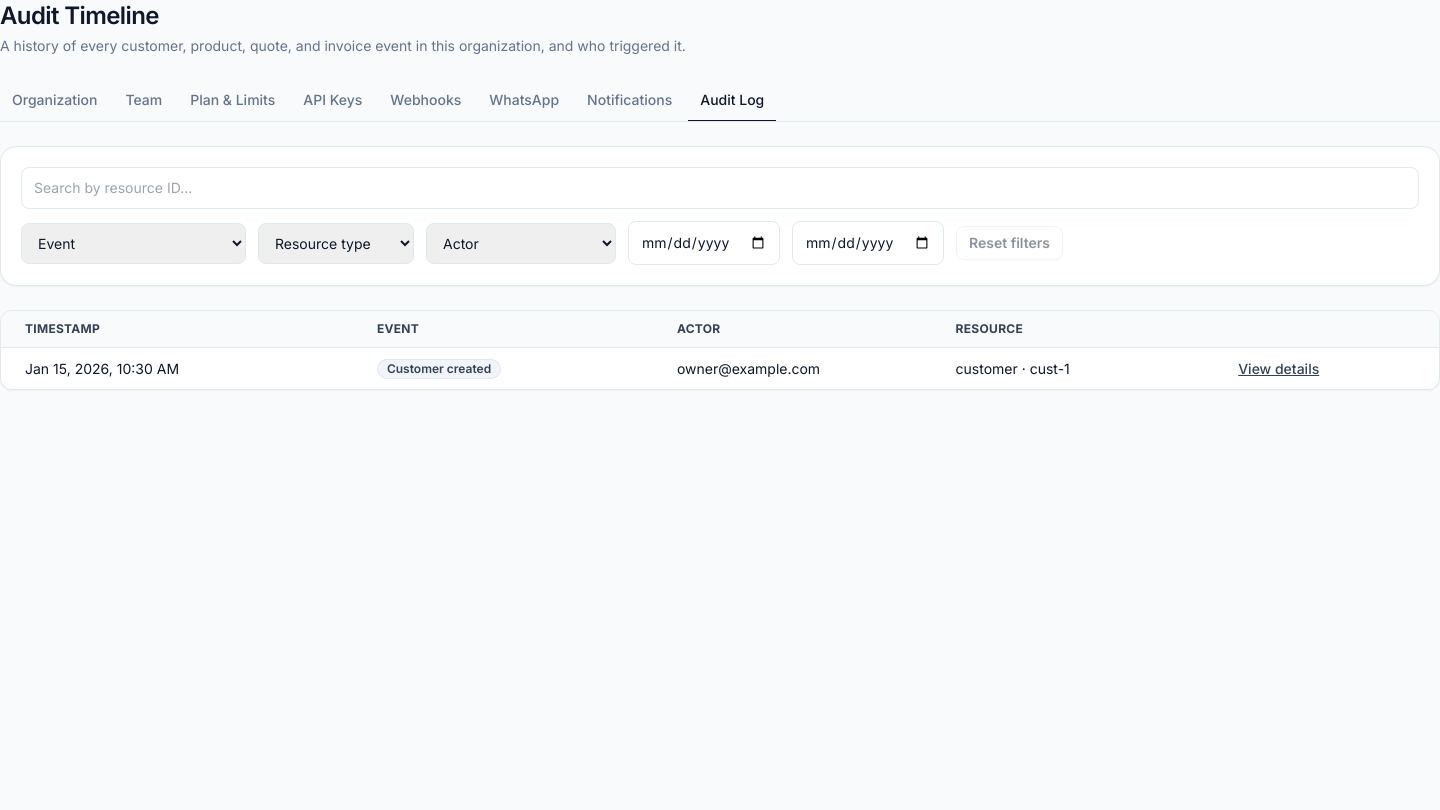
Test: SettingsAuditLogPage › shows 'no additional data' when metadata is null
Click the button "View details".
click(1279, 368)  # box [1238,358,1319,378]
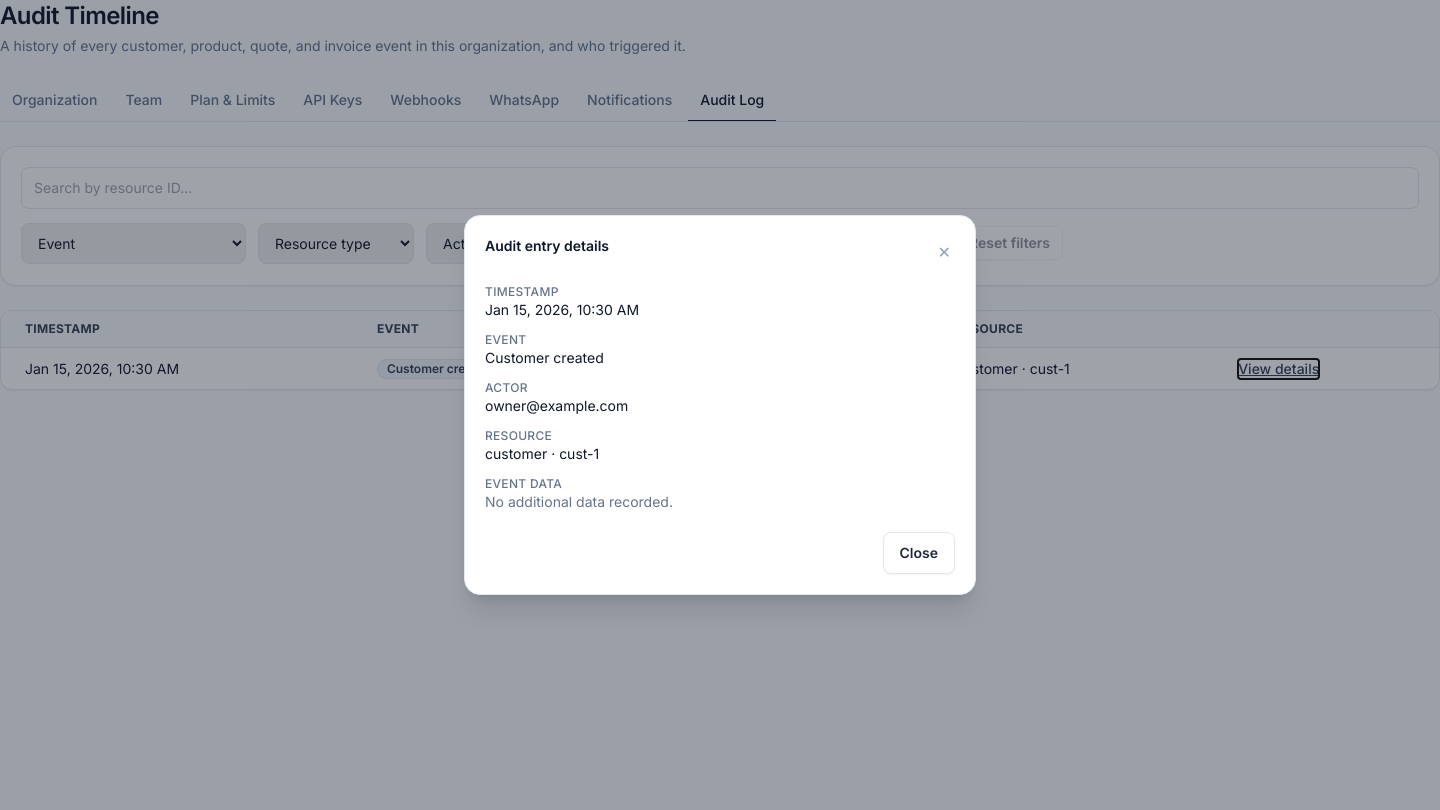
Now the text "No additional data recorded." is shown, box [485,493,673,510]
